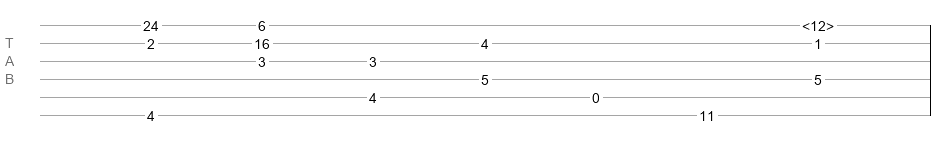0: (592, 90, 600, 100)
1: (814, 36, 822, 46)
11: (699, 108, 715, 118)
16: (254, 36, 270, 46)
2: (147, 36, 155, 46)
24: (143, 18, 159, 28)
3: (258, 54, 266, 64), (369, 54, 377, 64)
4: (147, 108, 155, 118), (369, 90, 377, 100), (481, 36, 489, 46)
5: (481, 72, 489, 82), (814, 72, 822, 82)
6: (258, 18, 266, 28)
harmonic: (802, 18, 834, 28)
